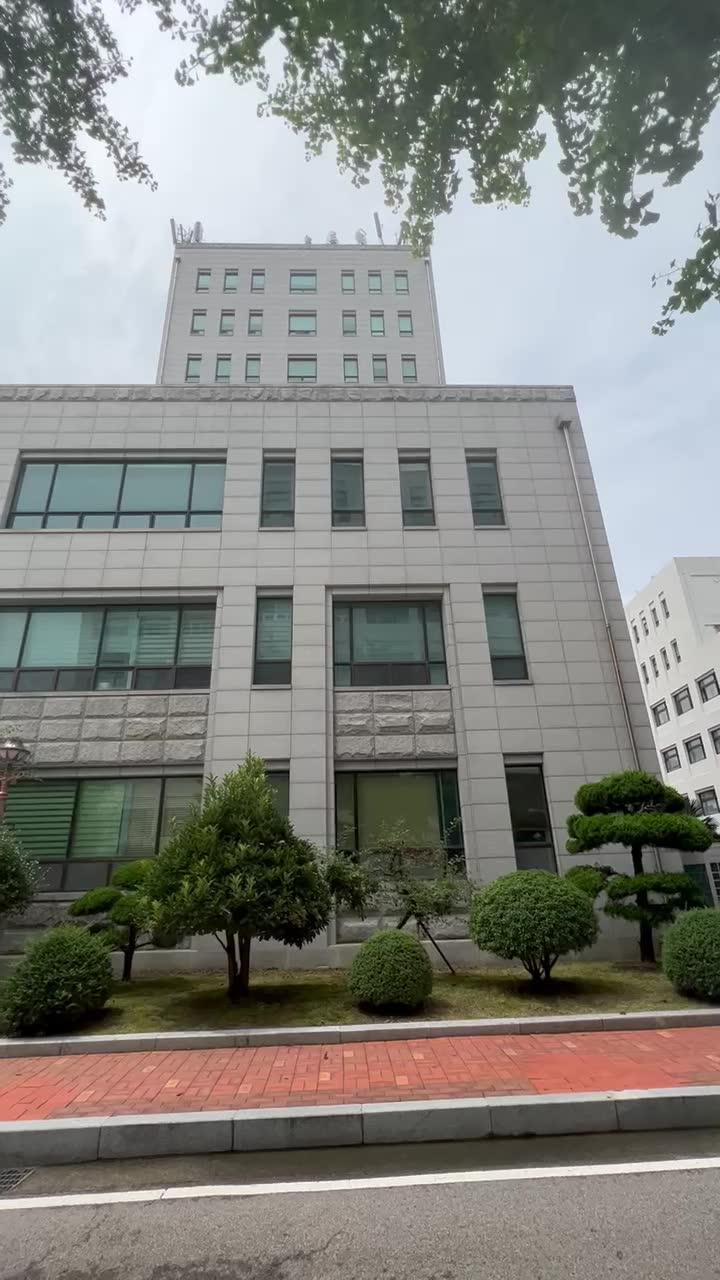building: (0, 222, 638, 772)
